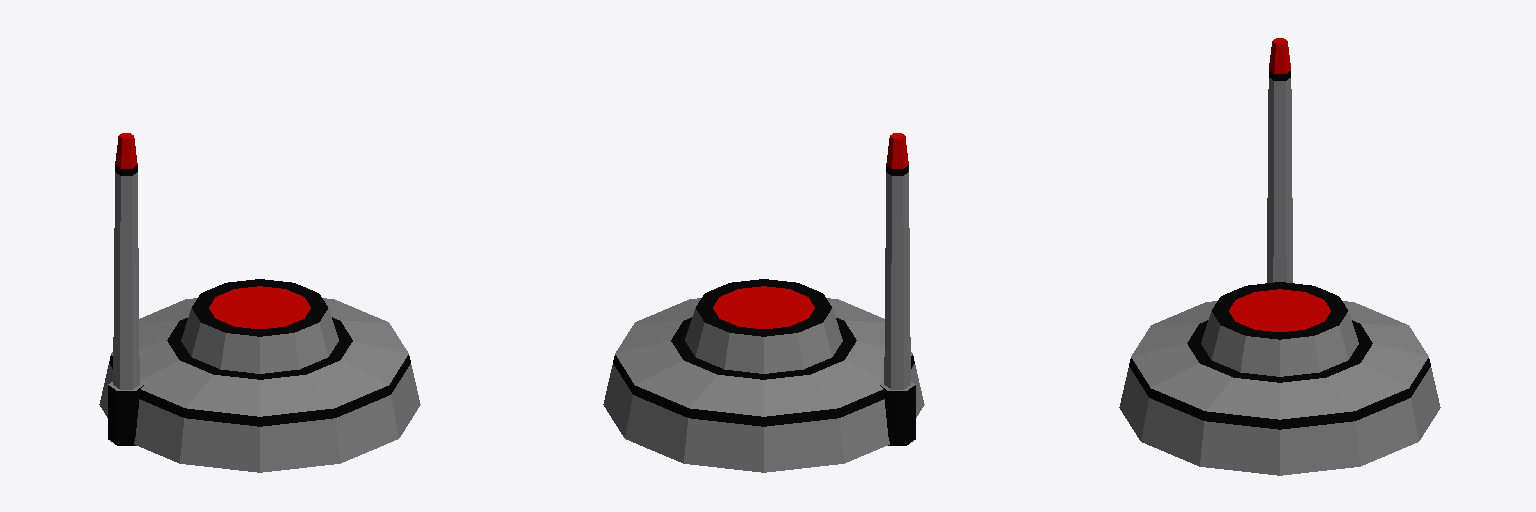
Rendered from ap_mine.obj.
3 renders of one model, left to right at view 1: azimuth 30°, elevation 25°; view 2: azimuth 150°, elevation 25°; view 3: azimuth 270°, elevation 25°, orthographic.
Parts seen in each view (by area): view 1: Cylinder; view 2: Cylinder; view 3: Cylinder.
Part boxes in pixels (left/top/right/bottom): Cylinder: left=99, top=133, right=420, bottom=472; Cylinder: left=603, top=133, right=924, bottom=472; Cylinder: left=1119, top=38, right=1440, bottom=475.
Bounding box in the file's own units: 0.3529 × 0.3575 × 0.3429.